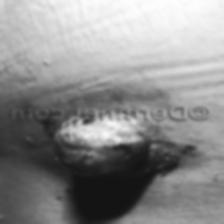Potentially Malignant Skin Tumors: (44, 114, 150, 172)
